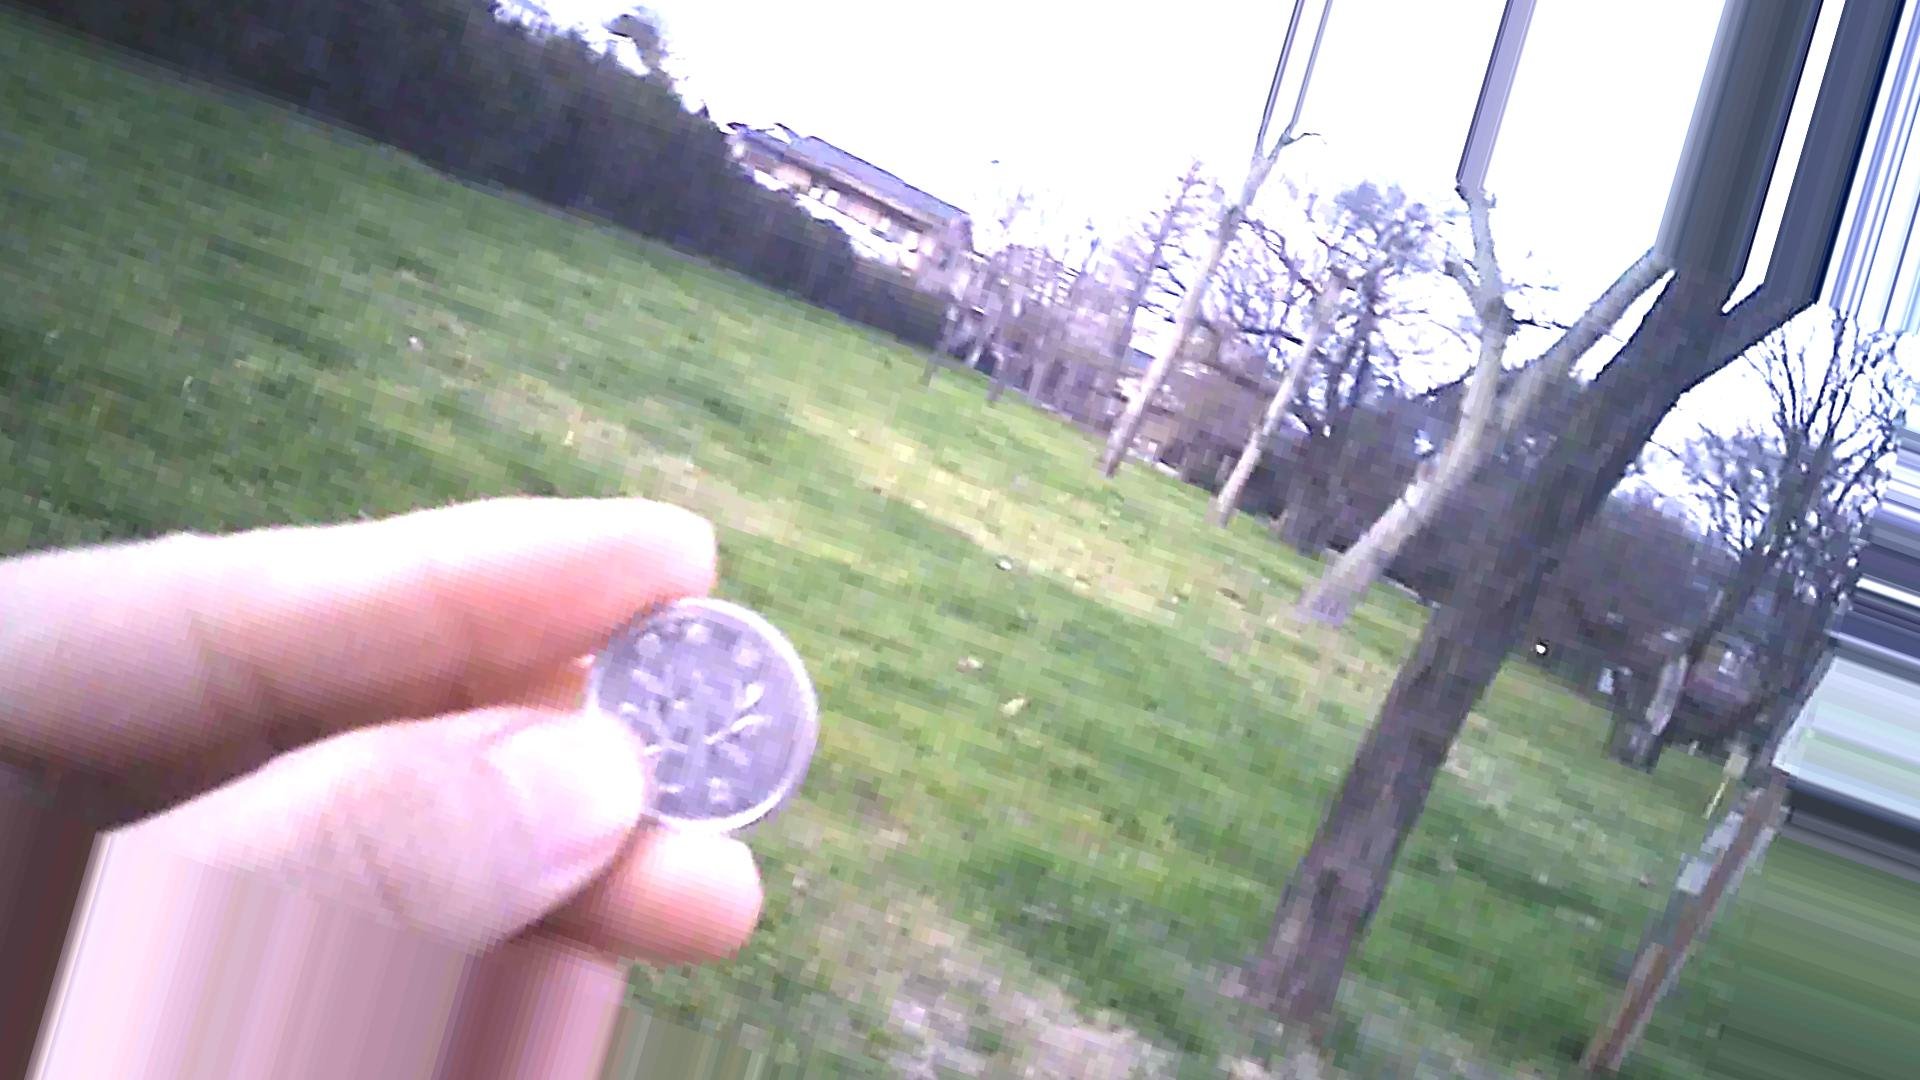1 Yen: (553, 582, 820, 853)
